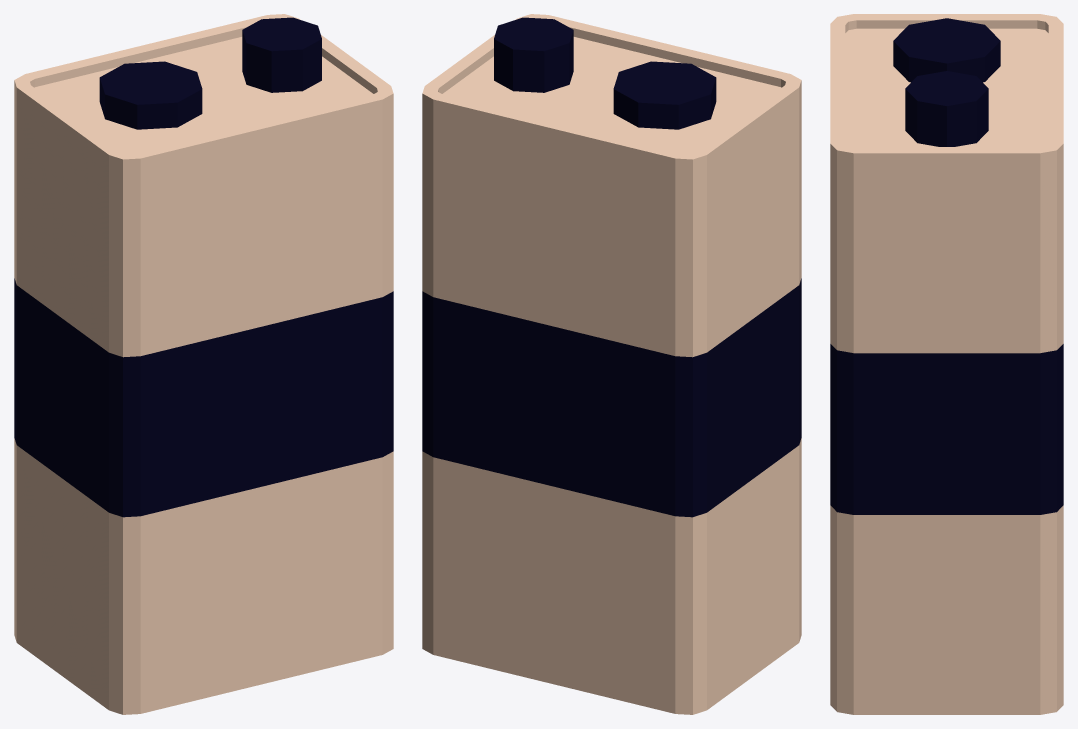
Rendered from Battery_03.fbx.
The picture shows the model from 3 angles, left to right: view 1: azimuth 30°, elevation 25°; view 2: azimuth 150°, elevation 25°; view 3: azimuth 270°, elevation 25°; orthographic projection.
Visible parts, largest first — view 1: Battery_03; view 2: Battery_03; view 3: Battery_03.
Part boxes in pixels (x1=…): Battery_03: x1=14, y1=14, x2=393, y2=714; Battery_03: x1=422, y1=14, x2=801, y2=714; Battery_03: x1=830, y1=14, x2=1063, y2=714.
Size of the model in its own units: 10.74 by 21.42 by 7.61.
